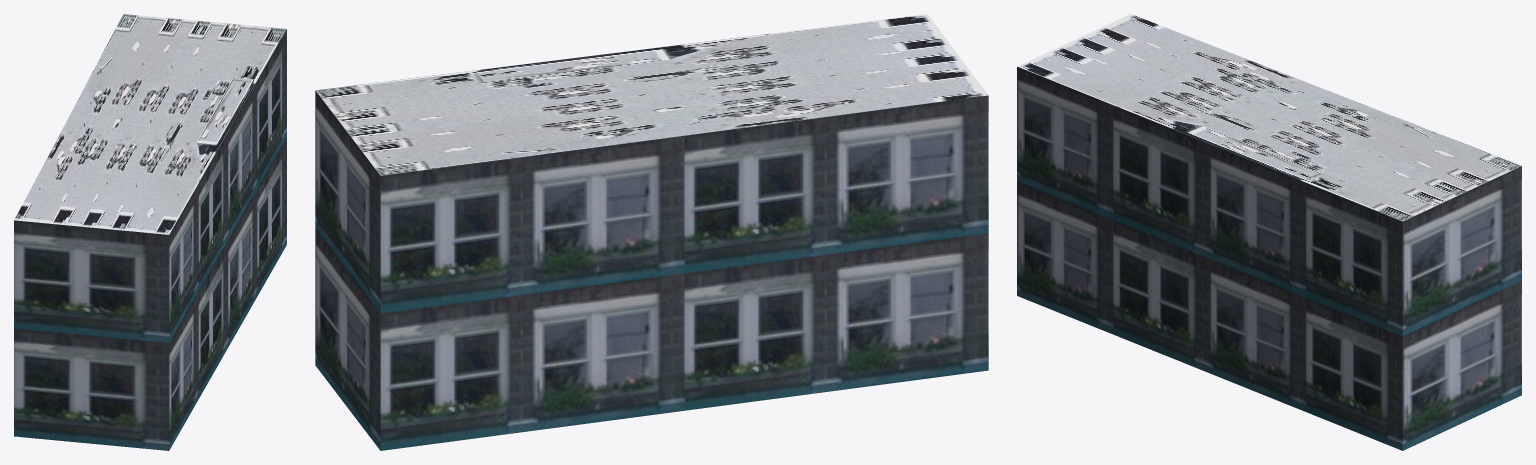
The model's file is ResTex__439.fbx.
The picture shows the model from 3 angles, left to right: view 1: azimuth 30°, elevation 25°; view 2: azimuth 150°, elevation 25°; view 3: azimuth 270°, elevation 25°; orthographic projection. The views are drawn at different scales.
Parts seen in each view (by area): view 1: CityEngineMaterial_11_m, CityEngineMaterial_8_m; view 2: CityEngineMaterial_11_m, CityEngineMaterial_8_m; view 3: CityEngineMaterial_11_m, CityEngineMaterial_8_m.
Part boxes in pixels (left/top/right/bottom): CityEngineMaterial_11_m: left=14, top=29, right=286, bottom=450; CityEngineMaterial_8_m: left=14, top=14, right=286, bottom=234; CityEngineMaterial_11_m: left=315, top=90, right=988, bottom=450; CityEngineMaterial_8_m: left=315, top=14, right=988, bottom=175; CityEngineMaterial_11_m: left=1017, top=66, right=1521, bottom=450; CityEngineMaterial_8_m: left=1017, top=14, right=1521, bottom=221.
Bounding box in the file's own units: 11.65 × 6 × 11.97.
2 materials, 2 textured.
